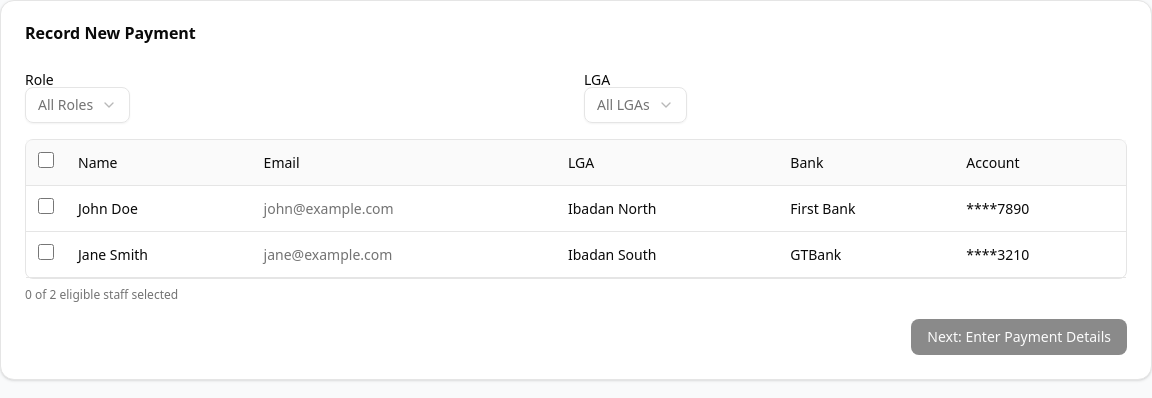
it: BulkRecordingForm › enables "Next" button after selecting staff
The image size is (1152, 398).
// Select first staff via checkbox
Click the checkbox named "Select John Doe" at x=46, y=206, box [38,198,54,214]
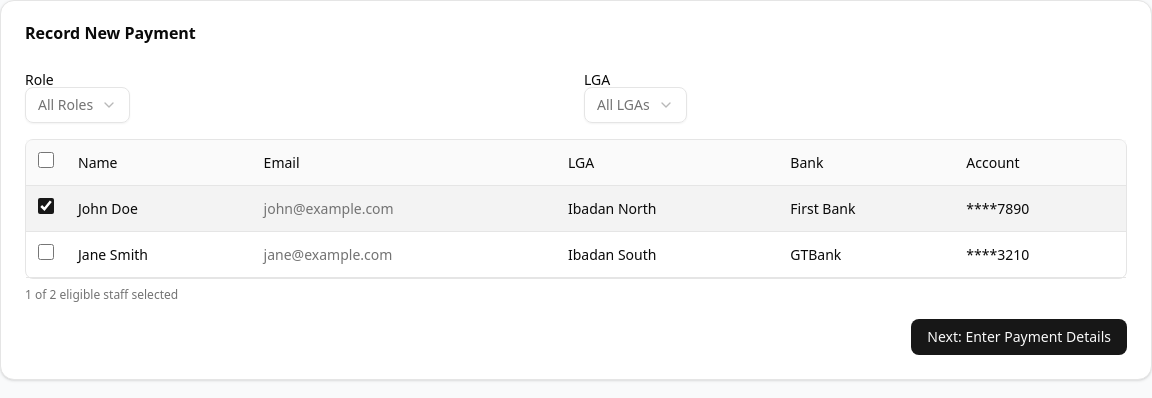
Expected: the button with test id "proceed-to-step-2" is enabled, [911,319,1127,355]
